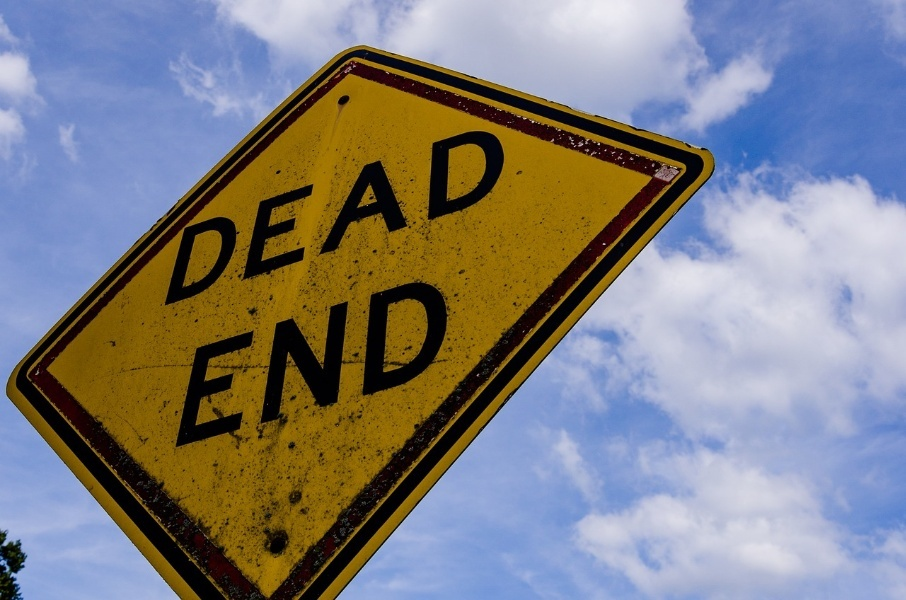text: (193, 119, 208, 309), (209, 119, 224, 309), (225, 119, 240, 309), (241, 119, 256, 309), (257, 119, 272, 309), (273, 119, 288, 309), (289, 119, 304, 309), (305, 119, 320, 309), (321, 119, 336, 309), (337, 119, 352, 309), (353, 119, 368, 309), (369, 119, 384, 309), (385, 119, 400, 309), (401, 119, 416, 309), (417, 119, 432, 309), (433, 119, 448, 309), (449, 119, 464, 309), (465, 119, 480, 309), (481, 119, 496, 309), (497, 119, 512, 309), (209, 269, 224, 452), (225, 269, 240, 452), (241, 269, 256, 452), (257, 269, 272, 452), (273, 269, 288, 452), (289, 269, 304, 452), (305, 269, 320, 452), (321, 269, 336, 452), (337, 269, 352, 452), (353, 269, 368, 452), (369, 269, 384, 452), (385, 269, 400, 452), (401, 269, 416, 452), (417, 269, 432, 452), (433, 269, 448, 452), (197, 269, 208, 452), (183, 119, 192, 309), (449, 269, 453, 452)
